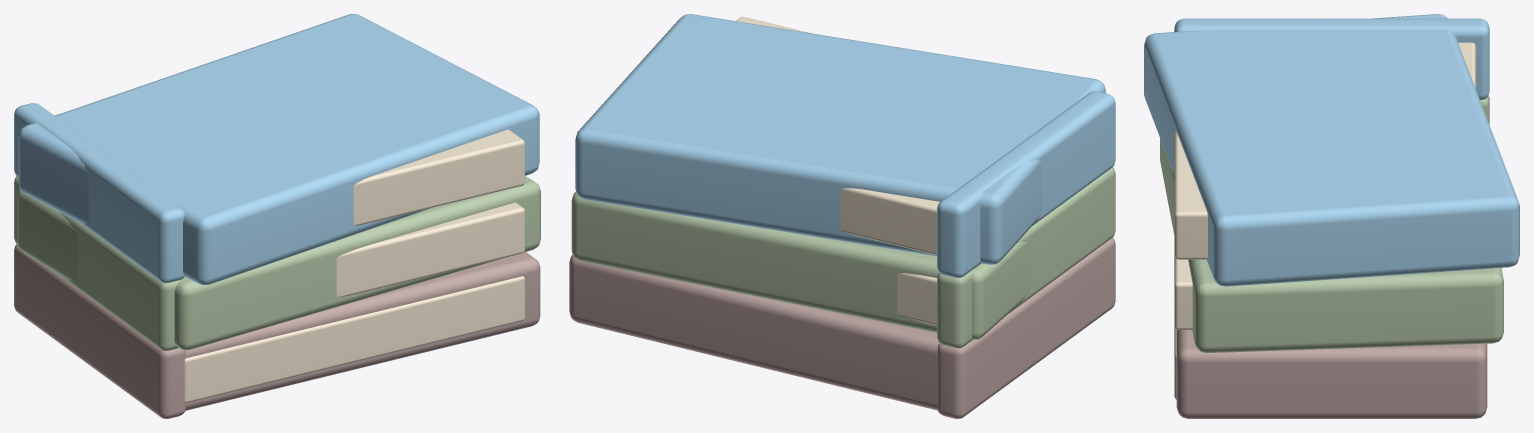
Rendered from booksNotebooks.glb.
3 renders of one model, left to right at view 1: azimuth 30°, elevation 25°; view 2: azimuth 150°, elevation 25°; view 3: azimuth 270°, elevation 25°, orthographic. The views are drawn at different scales.
Parts seen in each view (by area): view 1: Book cover.002, Book cover.001, Pages, Spine, Spine.002, Pages.001, Book cover, Pages.002, Spine.001; view 2: Book cover.002, Book cover.001, Book cover, Spine, Spine.002, Spine.001, Pages.002, Pages.001; view 3: Book cover.002, Book cover.001, Book cover, Spine.002, Pages.002, Pages.001.
Boxes of the visible parts, box(x1,y1,x2,y2) form: Book cover.002: box(18, 14, 539, 284); Book cover.001: box(17, 176, 540, 350); Pages: box(184, 276, 524, 403); Spine: box(14, 244, 185, 418); Spine.002: box(14, 103, 184, 283); Pages.001: box(336, 202, 524, 296); Book cover: box(185, 252, 540, 410); Pages.002: box(54, 114, 524, 225); Spine.001: box(14, 176, 181, 350); Book cover.002: box(575, 14, 1105, 264); Book cover.001: box(571, 192, 1030, 339); Book cover: box(569, 255, 939, 410); Spine: box(937, 237, 1115, 418); Spine.002: box(937, 91, 1115, 277); Spine.001: box(937, 167, 1115, 348); Pages.002: box(736, 16, 939, 255); Pages.001: box(897, 273, 937, 325); Book cover.002: box(1144, 14, 1519, 286); Book cover.001: box(1160, 138, 1503, 353); Book cover: box(1176, 329, 1487, 418); Spine.002: box(1174, 18, 1489, 99); Pages.002: box(1174, 42, 1475, 259); Pages.001: box(1174, 256, 1192, 329).
Size of the model in its own units: 1.09 by 0.52 by 0.8227.
